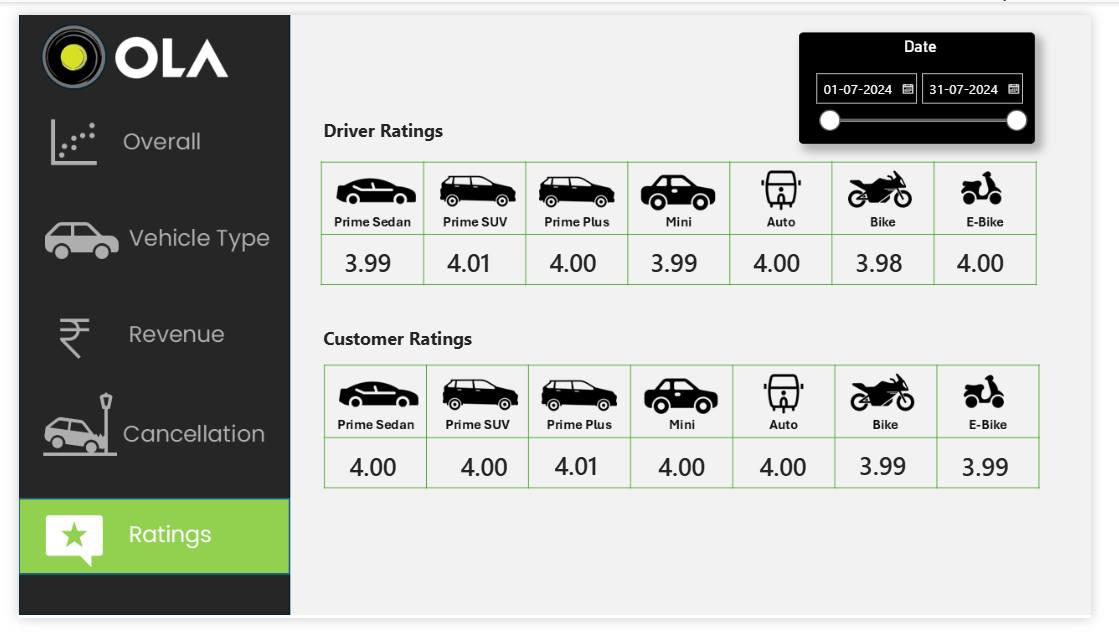

Layout of this report page (visuals, bound fields, positions):
{"tool":"powerbi","page":{"name":"Ratings","canvas":[1280,720],"ordinal":4},"visuals":[{"type":"actionButton","box":[0,223.2,323.3,92.9],"z":0},{"type":"actionButton","box":[0,342.5,323.8,93.8],"z":1000},{"type":"actionButton","box":[0,436.2,323.8,106.2],"z":2000},{"type":"actionButton","box":[0,106.2,323.3,92.9],"z":3000},{"type":"cardVisual","fields":{"Data":["Avg(OLA_Bookings.Driver_Ratings)"]},"box":[358.6,254.8,132.9,74.6],"z":4000},{"type":"cardVisual","fields":{"Data":["Avg(OLA_Bookings.Driver_Ratings)"]},"box":[480.4,255.7,121.9,74.9],"z":5000},{"type":"cardVisual","fields":{"Data":["Avg(OLA_Bookings.Driver_Ratings)"]},"box":[602.5,254.8,121.9,74.9],"z":6000},{"type":"cardVisual","fields":{"Data":["Avg(OLA_Bookings.Driver_Ratings)"]},"box":[724.5,254.8,122,74.6],"z":7000},{"type":"cardVisual","fields":{"Data":["Avg(OLA_Bookings.Driver_Ratings)"]},"box":[846.3,255.7,121.9,74.9],"z":8000},{"type":"cardVisual","fields":{"Data":["Avg(OLA_Bookings.Driver_Ratings)"]},"box":[968.2,255.7,126.4,73.5],"z":9000},{"type":"cardVisual","fields":{"Data":["Avg(OLA_Bookings.Driver_Ratings)"]},"box":[1090.2,255.7,121.9,74.9],"z":10000},{"type":"cardVisual","fields":{"Data":["Avg(OLA_Bookings.Customer_Rating)"]},"box":[364.4,502.8,121.9,66.1],"z":11000},{"type":"textbox","box":[358.5,117.5,164.6,47],"z":12000},{"type":"textbox","box":[358.5,365.8,202.8,47],"z":12001},{"type":"cardVisual","fields":{"Data":["Avg(OLA_Bookings.Customer_Rating)"]},"box":[497.4,503,121.9,66.1],"z":12002},{"type":"cardVisual","fields":{"Data":["Avg(OLA_Bookings.Customer_Rating)"]},"box":[608.4,501.2,121.9,66.1],"z":12003},{"type":"cardVisual","fields":{"Data":["Avg(OLA_Bookings.Customer_Rating)"]},"box":[732.2,503,121.9,66.1],"z":12004},{"type":"cardVisual","fields":{"Data":["Avg(OLA_Bookings.Customer_Rating)"]},"box":[854.1,503,121.9,66.1],"z":12005},{"type":"cardVisual","fields":{"Data":["Avg(OLA_Bookings.Customer_Rating)"]},"box":[972.4,501.2,121.9,66.1],"z":12006},{"type":"cardVisual","fields":{"Data":["Avg(OLA_Bookings.Customer_Rating)"]},"box":[1096.2,503,121.9,66.1],"z":12007},{"type":"slicer","title":"Date","fields":{"Values":["OLA_Bookings.Date"]},"box":[931.5,20.6,281.3,132.7],"z":12008}]}

Visuals, with their boxes on the page's 1280x720 design canvas (x1, y1, x2, y2). These are canvas units, not pixel positions in the 1119x635 screenshot, which may show the page scaled, cropped or inside an application window:
actionButton: [0, 223, 323, 316]
actionButton: [0, 342, 324, 436]
actionButton: [0, 436, 324, 542]
actionButton: [0, 106, 323, 199]
cardVisual - Avg(OLA_Bookings.Driver_Ratings): [359, 255, 492, 329]
cardVisual - Avg(OLA_Bookings.Driver_Ratings): [480, 256, 602, 331]
cardVisual - Avg(OLA_Bookings.Driver_Ratings): [602, 255, 724, 330]
cardVisual - Avg(OLA_Bookings.Driver_Ratings): [724, 255, 846, 329]
cardVisual - Avg(OLA_Bookings.Driver_Ratings): [846, 256, 968, 331]
cardVisual - Avg(OLA_Bookings.Driver_Ratings): [968, 256, 1095, 329]
cardVisual - Avg(OLA_Bookings.Driver_Ratings): [1090, 256, 1212, 331]
cardVisual - Avg(OLA_Bookings.Customer_Rating): [364, 503, 486, 569]
textbox: [358, 118, 523, 164]
textbox: [358, 366, 561, 413]
cardVisual - Avg(OLA_Bookings.Customer_Rating): [497, 503, 619, 569]
cardVisual - Avg(OLA_Bookings.Customer_Rating): [608, 501, 730, 567]
cardVisual - Avg(OLA_Bookings.Customer_Rating): [732, 503, 854, 569]
cardVisual - Avg(OLA_Bookings.Customer_Rating): [854, 503, 976, 569]
cardVisual - Avg(OLA_Bookings.Customer_Rating): [972, 501, 1094, 567]
cardVisual - Avg(OLA_Bookings.Customer_Rating): [1096, 503, 1218, 569]
"Date" slicer: [932, 21, 1213, 153]
